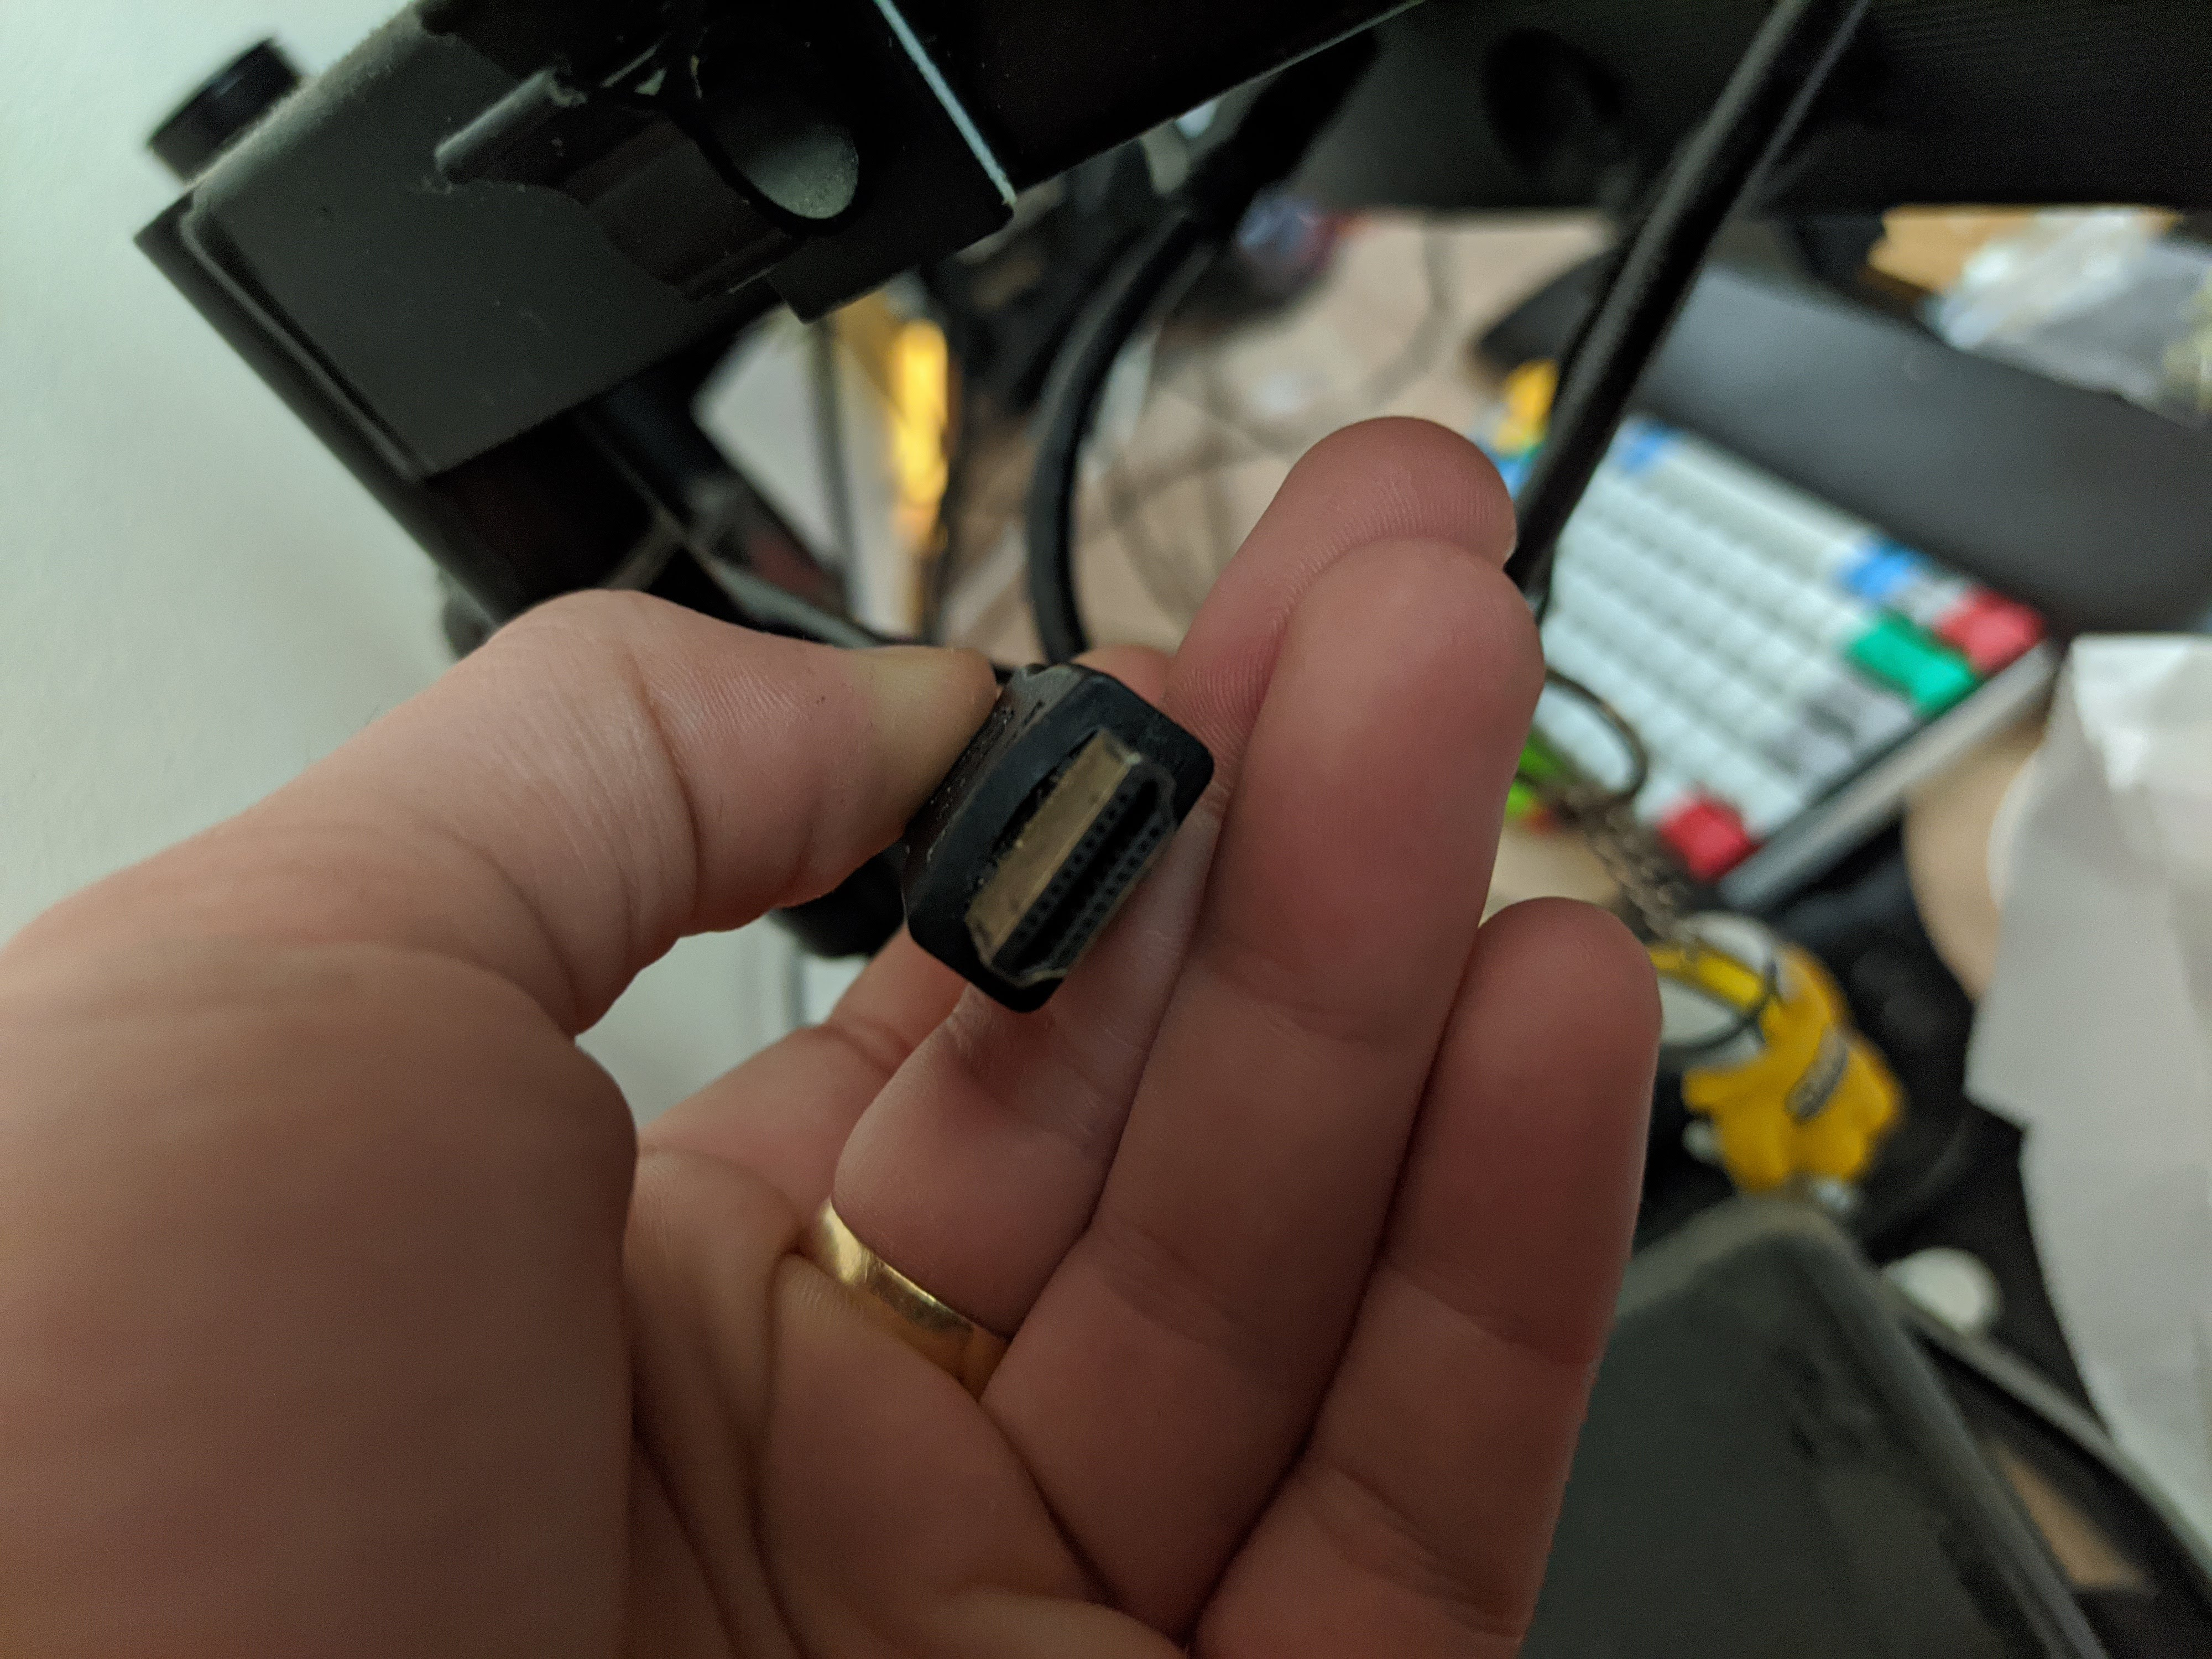hdmi_out: (972, 737, 1176, 992)
